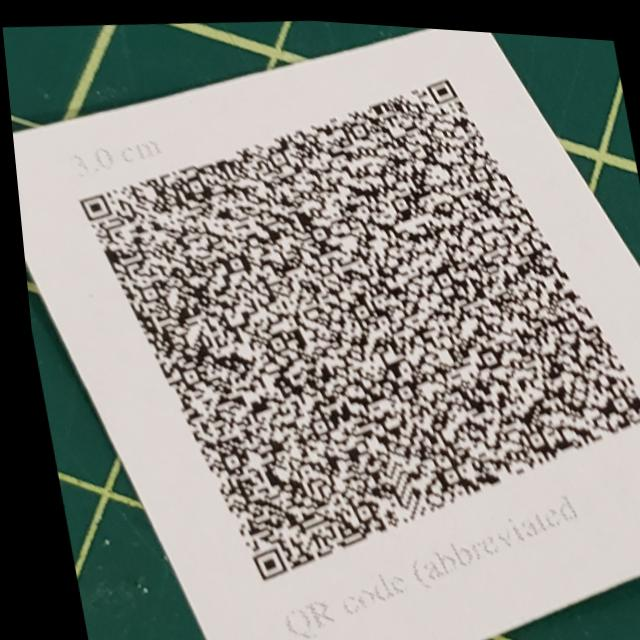QR_CODE: (32, 10, 640, 624)
